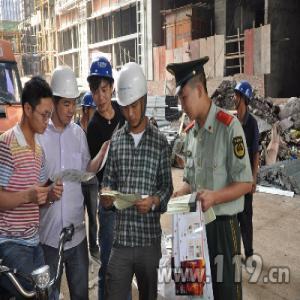blue: (88, 57, 115, 115), (234, 81, 254, 115), (81, 92, 97, 122)
none: (173, 57, 211, 122), (22, 77, 54, 138)
white: (118, 63, 150, 130), (50, 66, 81, 125)
